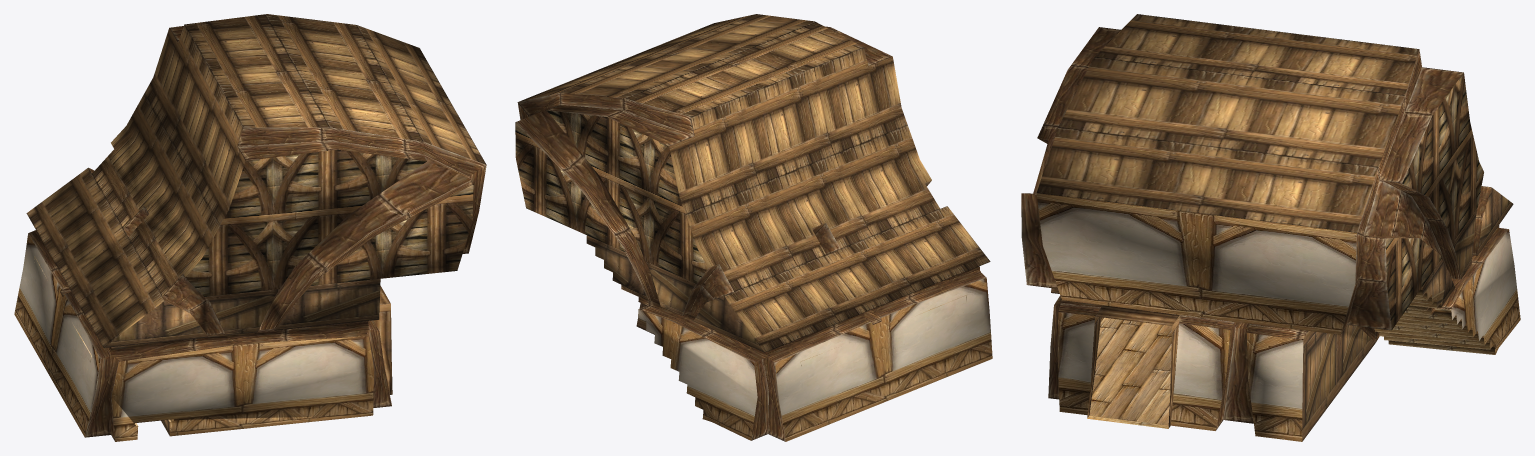
File: stormwind_198.fbx
The picture shows the model from 3 angles, left to right: view 1: azimuth 30°, elevation 25°; view 2: azimuth 150°, elevation 25°; view 3: azimuth 270°, elevation 25°; orthographic projection. The views are drawn at different scales.
Parts seen in each view (by area): view 1: stormwind_198_55, stormwind_198_48, stormwind_198_49, stormwind_198_53, stormwind_198_56; view 2: stormwind_198_55, stormwind_198_48, stormwind_198_53, stormwind_198_49, stormwind_198_56; view 3: stormwind_198_55, stormwind_198_48, stormwind_198_53, stormwind_198_49, stormwind_198_51, stormwind_198_56.
Boxes of the visible parts, box(x1,y1,x2,y2) form: stormwind_198_55: box(26, 14, 486, 347); stormwind_198_48: box(14, 233, 374, 441); stormwind_198_49: box(185, 149, 473, 394); stormwind_198_53: box(28, 26, 486, 441); stormwind_198_56: box(104, 278, 380, 435); stormwind_198_55: box(519, 14, 990, 352); stormwind_198_48: box(621, 278, 992, 441); stormwind_198_53: box(515, 26, 986, 441); stormwind_198_49: box(515, 110, 708, 283); stormwind_198_56: box(586, 235, 764, 352); stormwind_198_55: box(1036, 14, 1419, 232); stormwind_198_48: box(1036, 193, 1520, 441); stormwind_198_53: box(1021, 27, 1508, 430); stormwind_198_49: box(1087, 73, 1483, 428); stormwind_198_51: box(1089, 317, 1172, 425); stormwind_198_56: box(1051, 187, 1513, 441).
Bounding box in the file's own units: 20.91 × 13.56 × 18.5.
